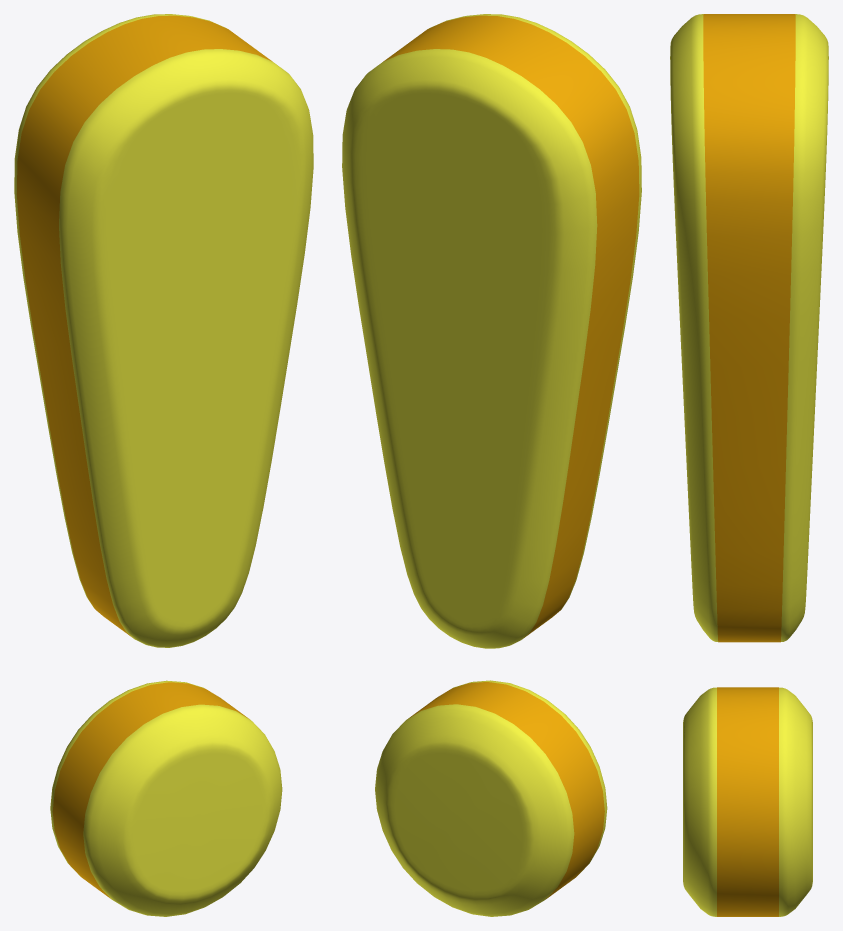
File: quest marker.fbx
The picture shows the model from 3 angles, left to right: view 1: azimuth 30°, elevation 25°; view 2: azimuth 150°, elevation 25°; view 3: azimuth 270°, elevation 25°; orthographic projection.
Visible parts, largest first — view 1: Connect, Dot; view 2: Connect, Dot; view 3: Connect, Dot.
Part boxes in pixels (<box>): Connect: <box>14,14,313,647</box>; Dot: <box>50,680,282,916</box>; Connect: <box>342,14,641,648</box>; Dot: <box>375,680,607,916</box>; Connect: <box>670,14,828,642</box>; Dot: <box>683,687,812,916</box>.
Size of the model in its own units: 36.37 by 119 by 19.56.
